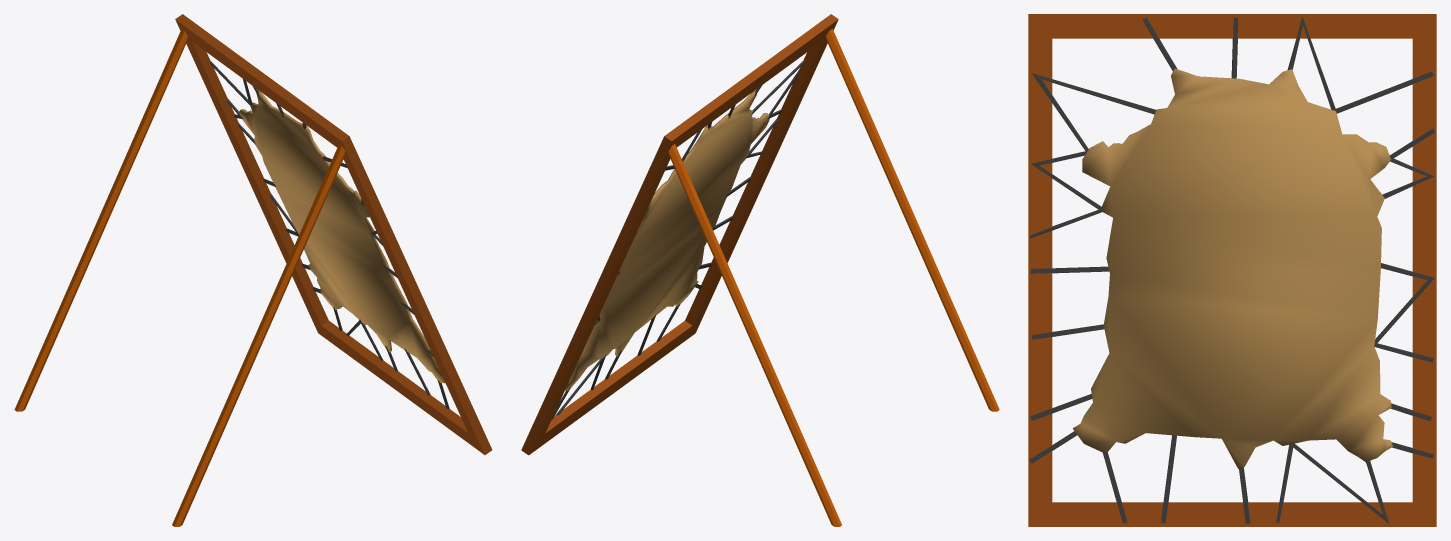
The model's file is SkinningFrameLegged.fbx.
3 views of the same model, side by side, from view 1: azimuth 30°, elevation 25°; view 2: azimuth 150°, elevation 25°; view 3: azimuth 270°, elevation 25° (orthographic). The views are drawn at different scales.
Visible parts, largest first — view 1: SkinninFrameLegged; view 2: SkinninFrameLegged; view 3: SkinninFrameLegged.
Part boxes in pixels (<box>): SkinninFrameLegged: <box>14,14,492,526</box>; SkinninFrameLegged: <box>521,14,999,526</box>; SkinninFrameLegged: <box>1028,14,1436,526</box>.
Bounding box in the file's own units: 413 × 441 × 379.
